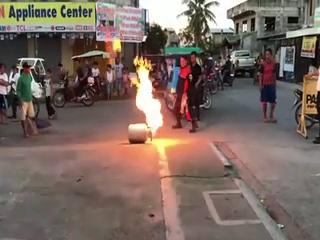Fire: (133, 63, 162, 133)
